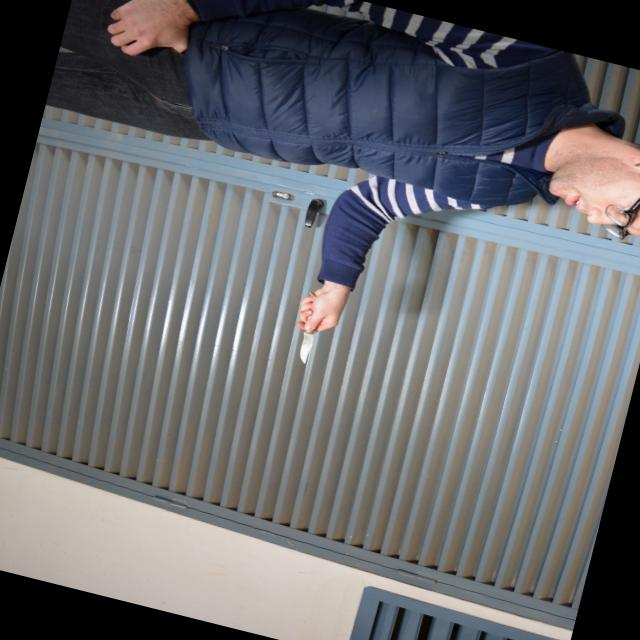knife: (282, 285, 326, 367)
